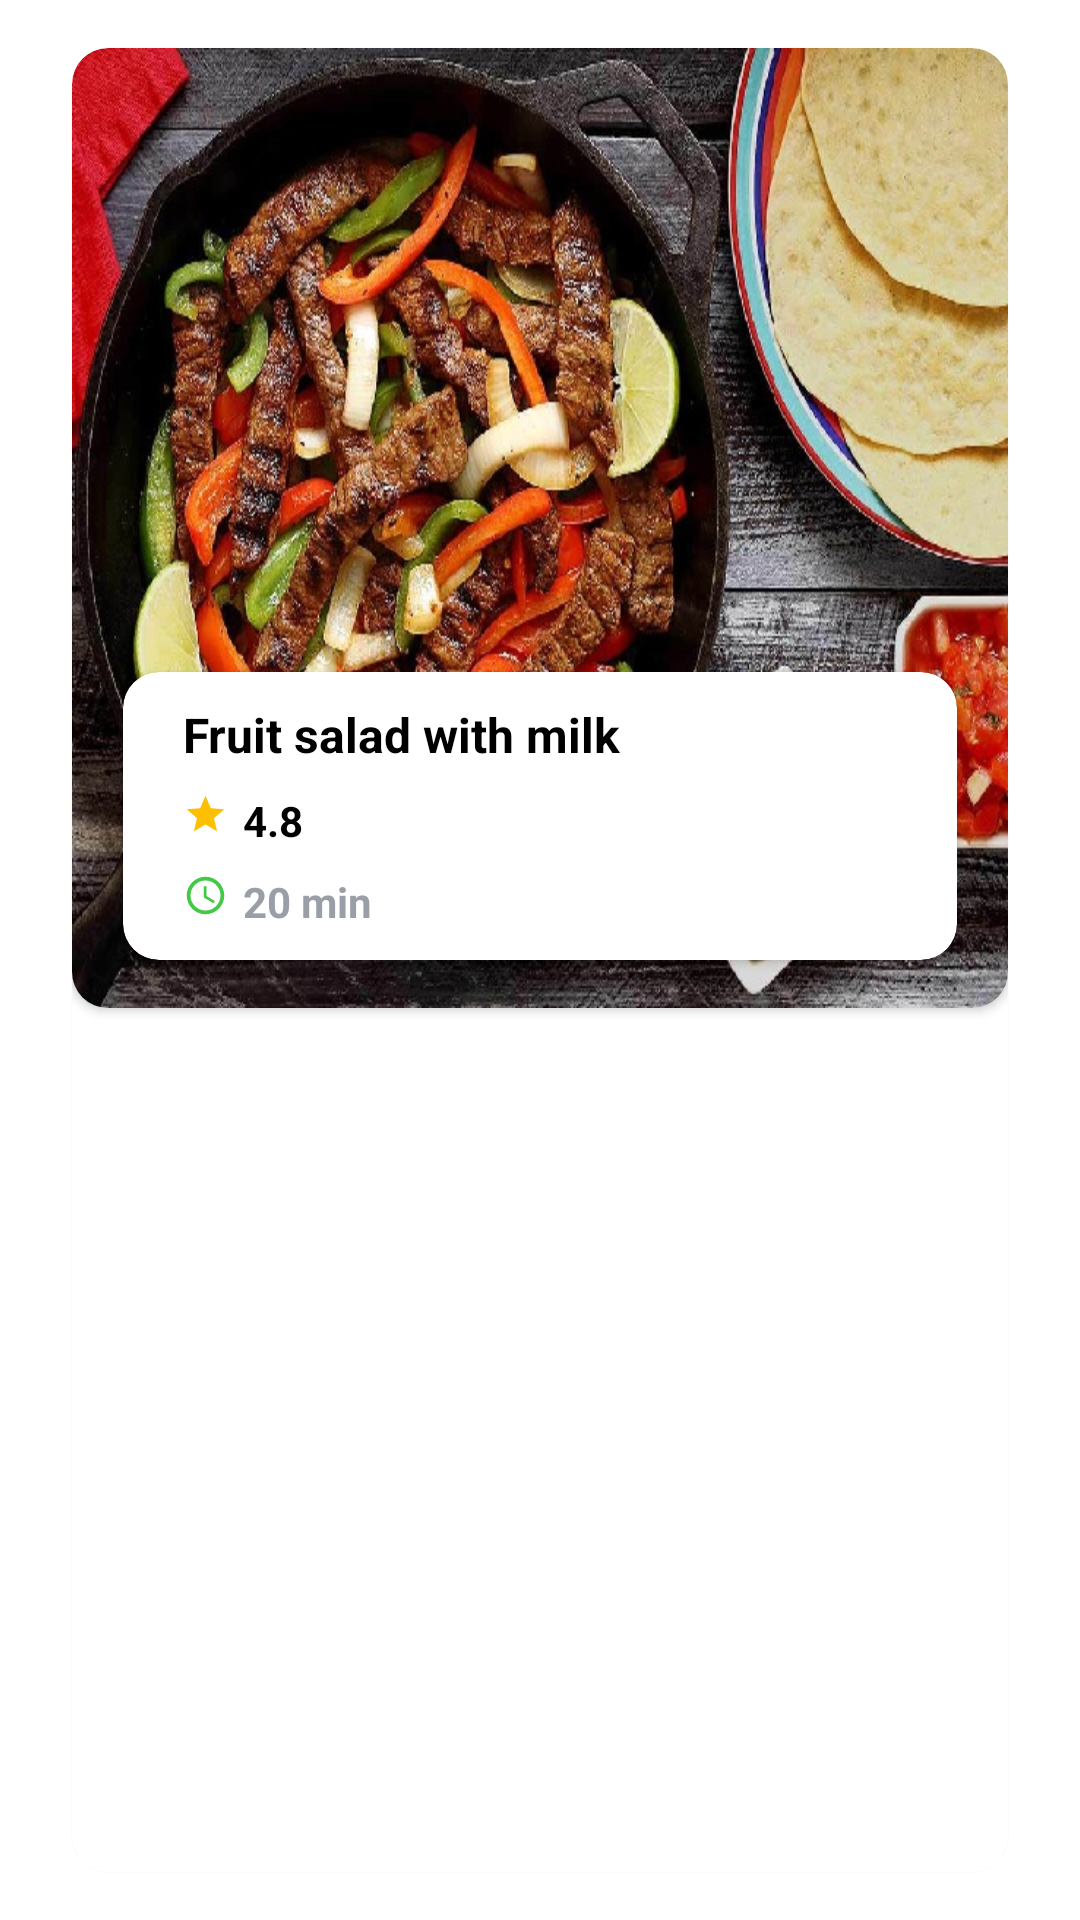

Screen size 1080x1920. Icon name, then its box in pixels as (x1, y1, x2, y2):
star: (187, 796, 224, 831)
time: (186, 876, 225, 915)
